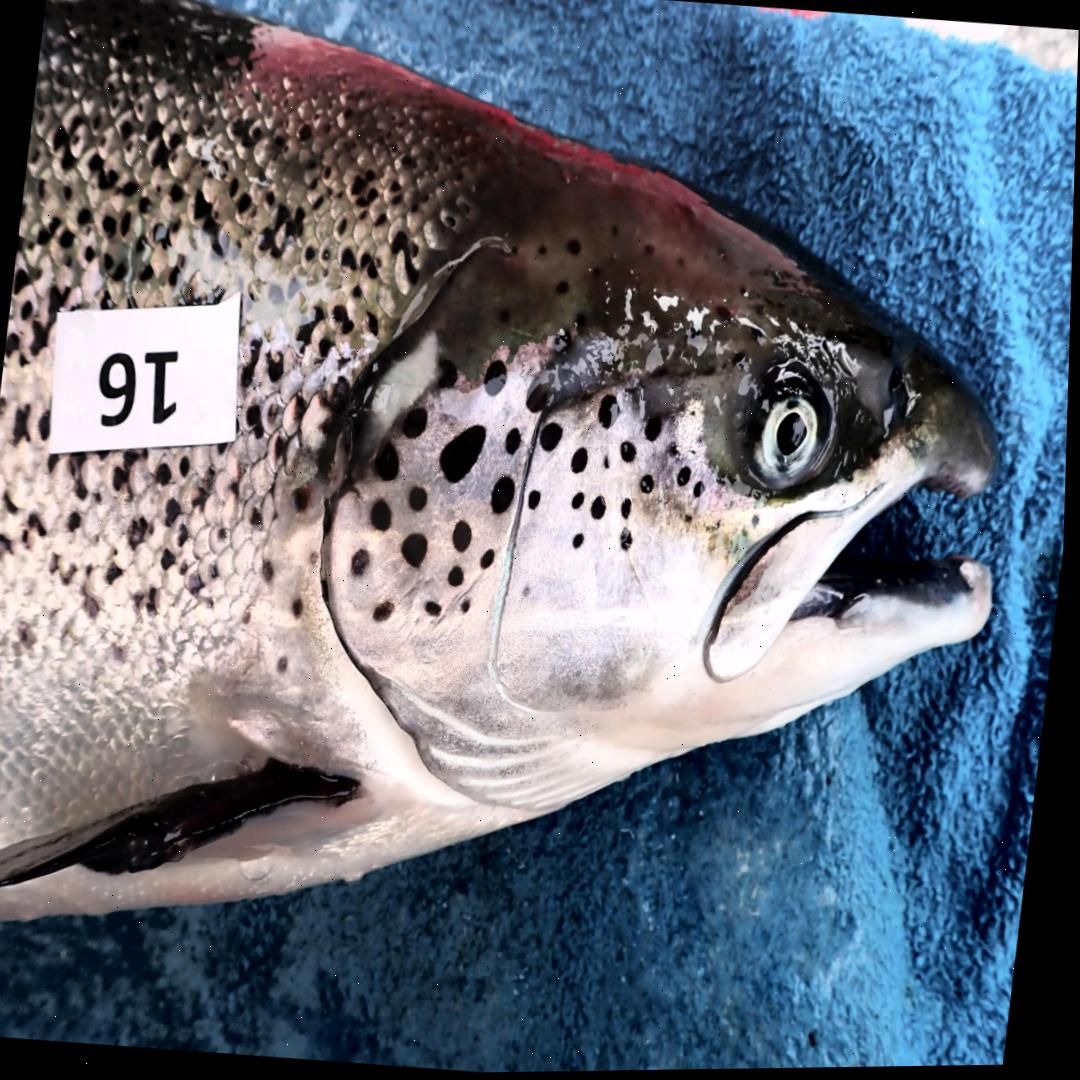spot: (441, 424, 488, 484), (404, 533, 431, 569), (492, 476, 517, 514), (377, 444, 402, 482), (485, 361, 509, 397), (405, 408, 430, 440), (527, 385, 551, 414), (600, 396, 621, 429), (541, 424, 564, 453), (373, 501, 394, 531), (454, 522, 474, 552), (439, 361, 459, 390), (646, 417, 665, 443), (410, 487, 430, 511), (353, 550, 371, 576), (507, 430, 524, 456), (376, 601, 396, 622), (325, 501, 336, 537), (573, 450, 590, 473), (592, 498, 608, 521), (623, 441, 638, 465), (678, 467, 694, 489), (451, 566, 467, 586), (642, 475, 656, 496), (484, 551, 498, 571), (530, 490, 544, 510), (573, 493, 587, 511), (428, 602, 444, 617), (623, 532, 635, 552), (623, 500, 634, 520), (694, 482, 706, 500), (575, 534, 587, 549), (670, 445, 681, 457), (463, 601, 473, 613), (755, 517, 762, 529), (687, 515, 696, 524), (606, 457, 611, 470)
